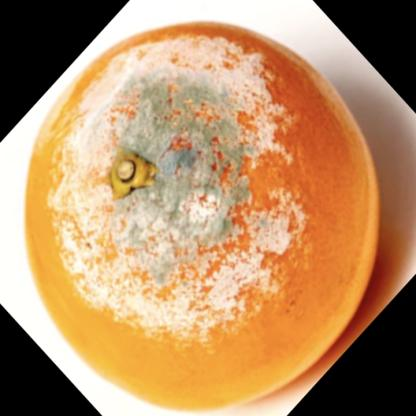rotten: (24, 20, 381, 409)
